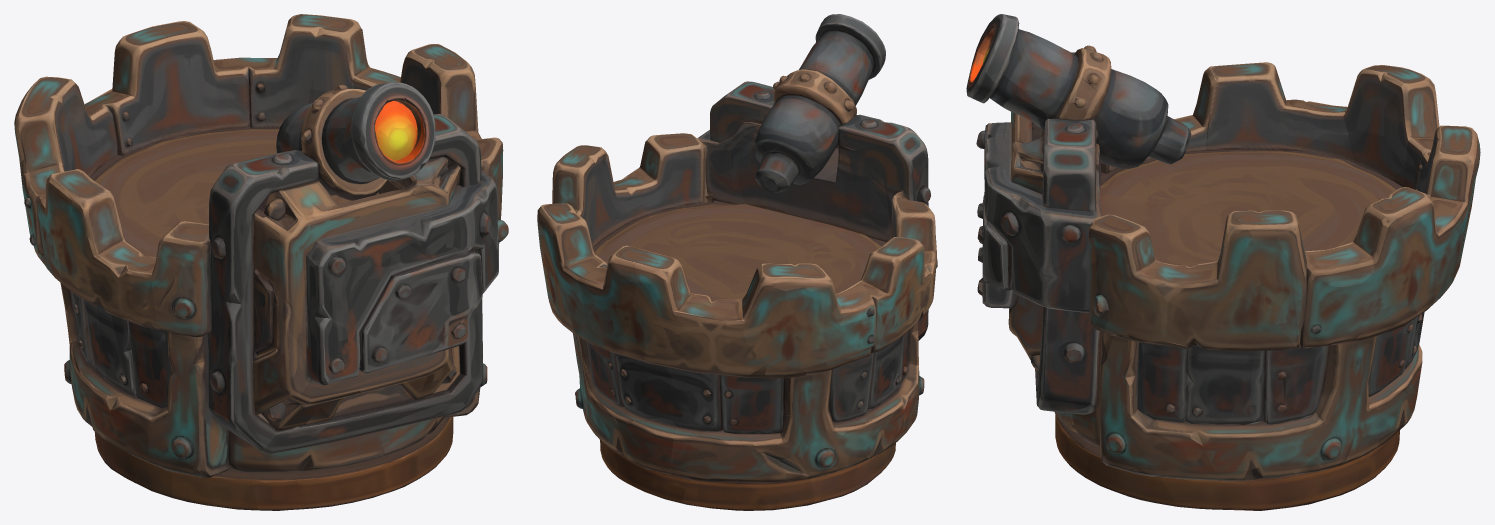
Rendered from 10_crown_nest.glb.
3 views of the same model, side by side, from view 1: azimuth 30°, elevation 25°; view 2: azimuth 150°, elevation 25°; view 3: azimuth 270°, elevation 25° (orthographic). The views are drawn at different scales.
Visible parts, largest first — view 1: output_unwrapped; view 2: output_unwrapped; view 3: output_unwrapped.
Boxes of the visible parts, left/top/right/bottom form: output_unwrapped: left=14, top=14, right=508, bottom=510; output_unwrapped: left=537, top=14, right=937, bottom=510; output_unwrapped: left=966, top=14, right=1480, bottom=510.
Size of the model in its own units: 1.68 by 1.73 by 1.9.
1 material, 1 textured.
